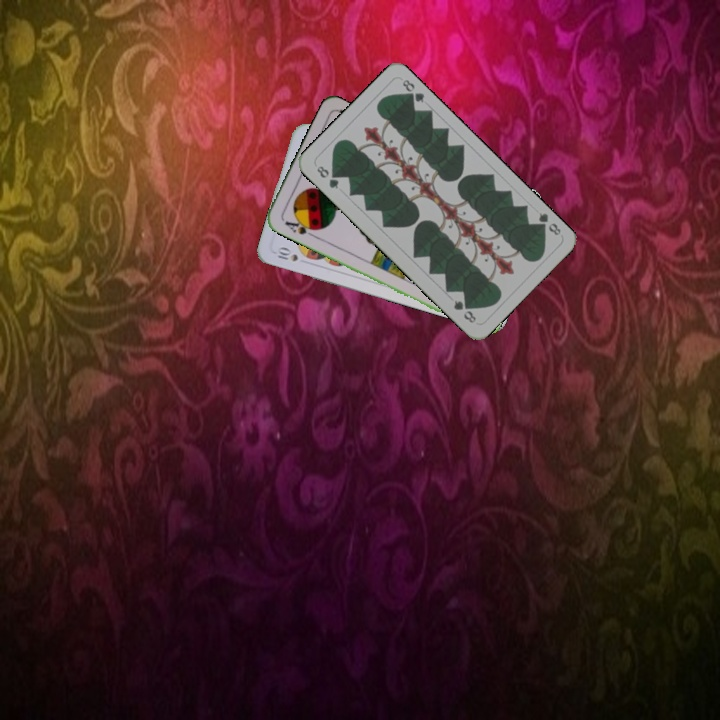G8: (312, 161, 342, 192), (532, 208, 563, 238)
S10: (273, 244, 301, 264)
SA: (281, 215, 319, 240)
